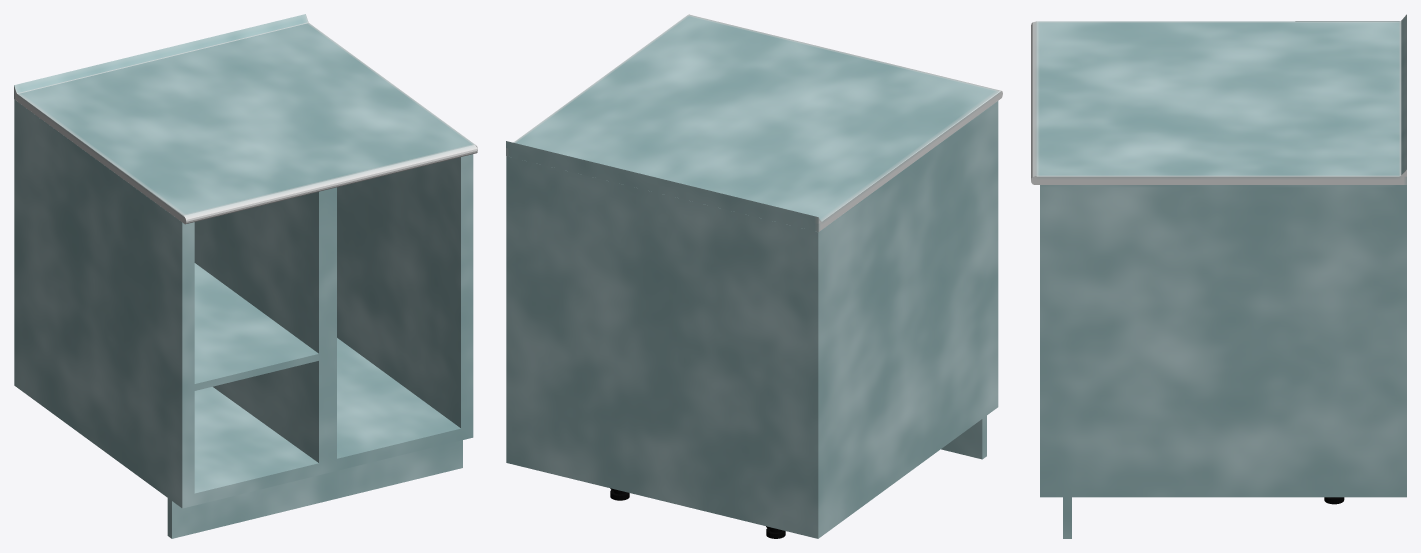
The model's file is lower_shelf.fbx.
3 views of the same model, side by side, from view 1: azimuth 30°, elevation 25°; view 2: azimuth 150°, elevation 25°; view 3: azimuth 270°, elevation 25° (orthographic). The views are drawn at different scales.
Parts seen in each view (by area): view 1: lower_shelf_Baked; view 2: lower_shelf_Baked; view 3: lower_shelf_Baked.
Boxes of the visible parts, <box> form: lower_shelf_Baked: <box>14,14,477,538</box>; lower_shelf_Baked: <box>506,14,1002,538</box>; lower_shelf_Baked: <box>1031,14,1406,538</box>.
Bounding box in the file's own units: 80.19 × 88.96 × 81.95.
